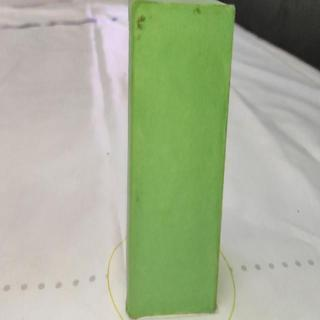greenbox: (125, 0, 236, 320)
